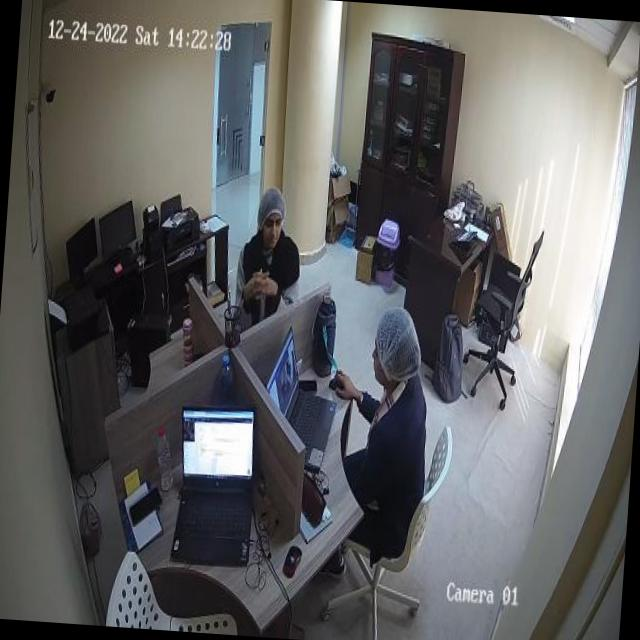hairnet: (374, 306, 419, 374), (258, 184, 290, 223)
